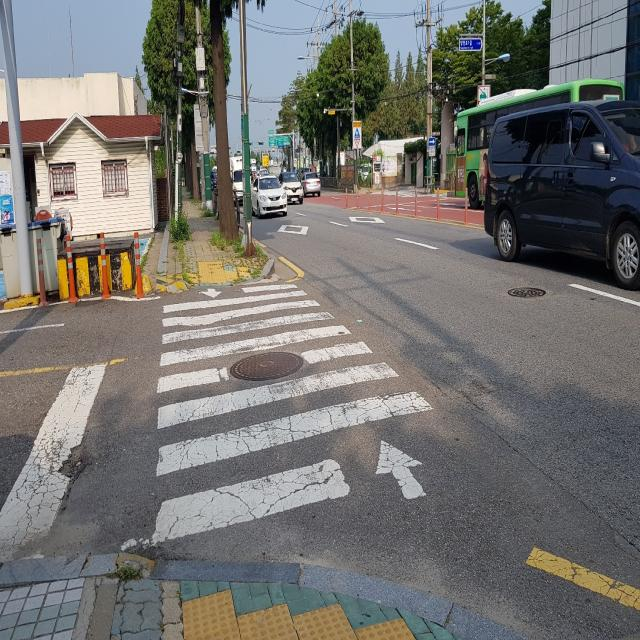횡단보도: (149, 280, 436, 550)
